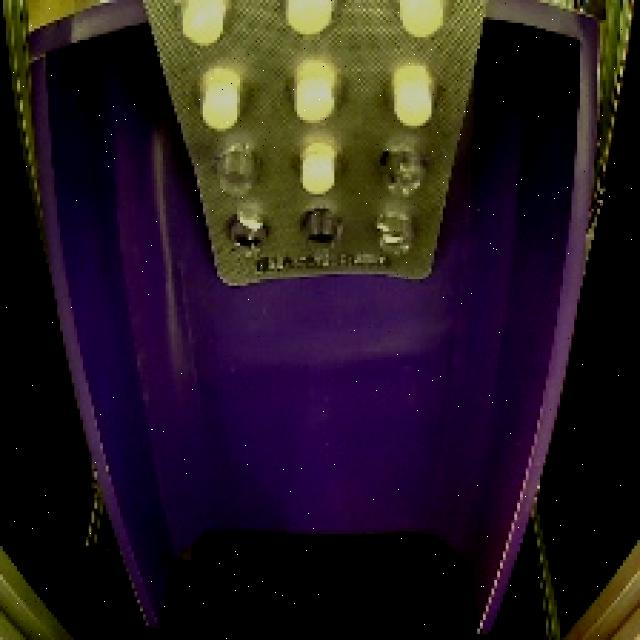med_plate: (127, 0, 508, 301)
